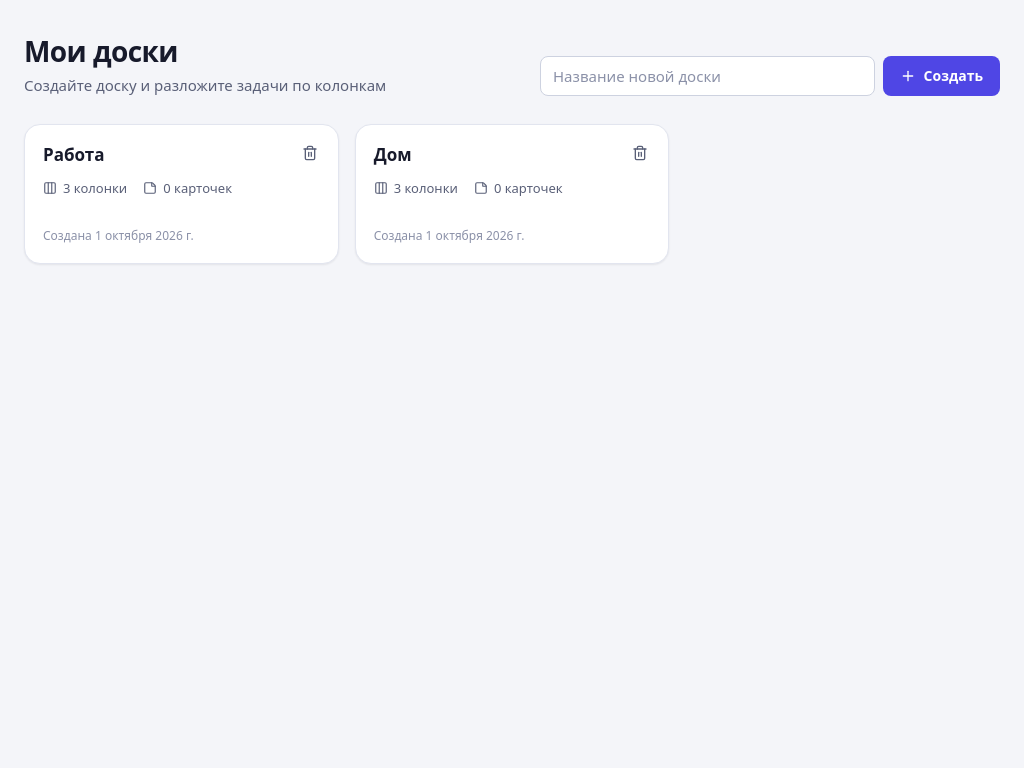
Test: BoardsPage › удаляет доску после подтверждения
This screenshot has width=1024, height=768.
Click the button named "Удалить доску «Работа»": (310, 153) [294, 137, 326, 169]
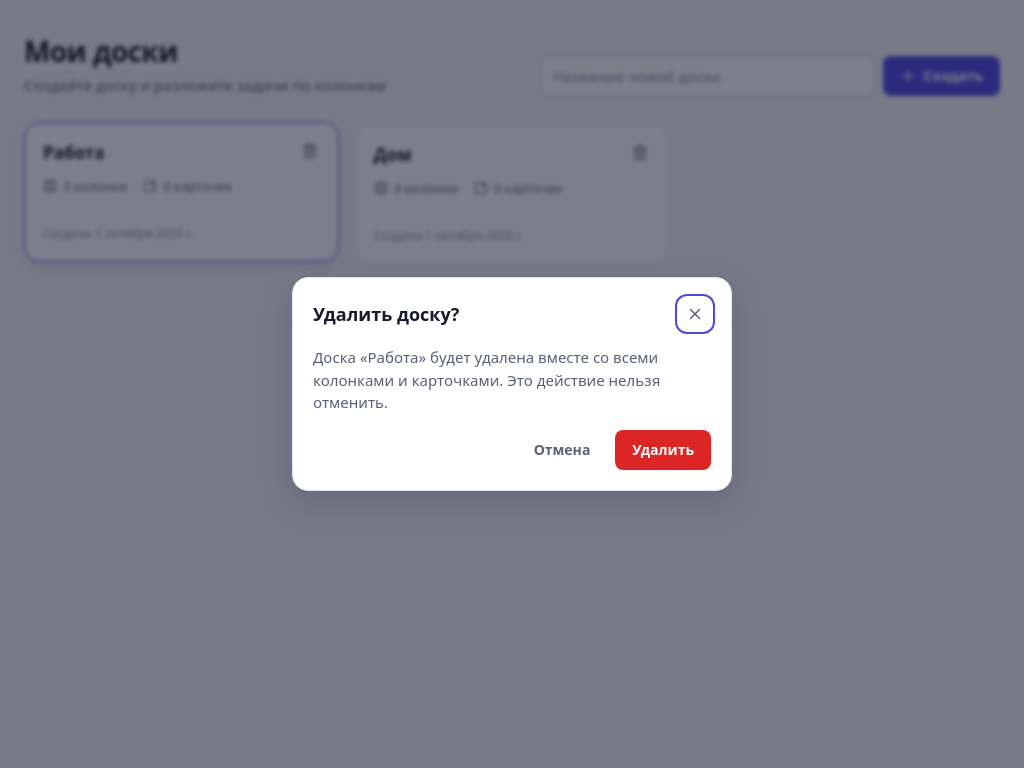
Click the button "Удалить": (663, 450) [615, 430, 711, 470]
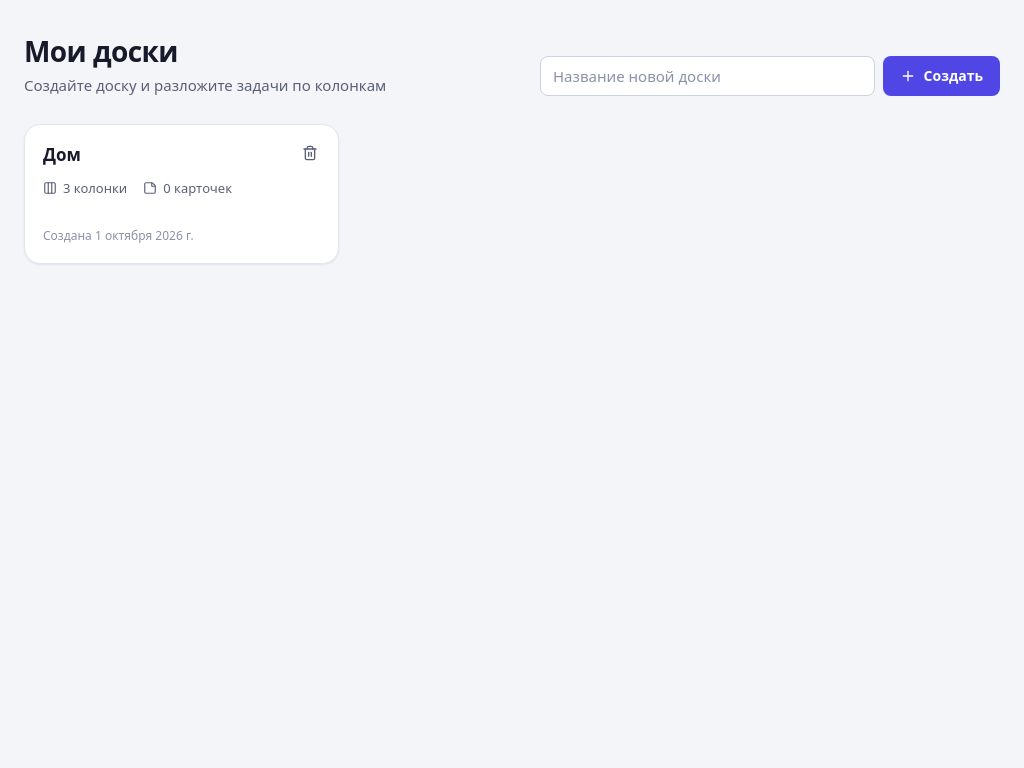
Expected: the link "Дом" is shown, [43, 143, 81, 166]
Now the link "Работа" is gone
